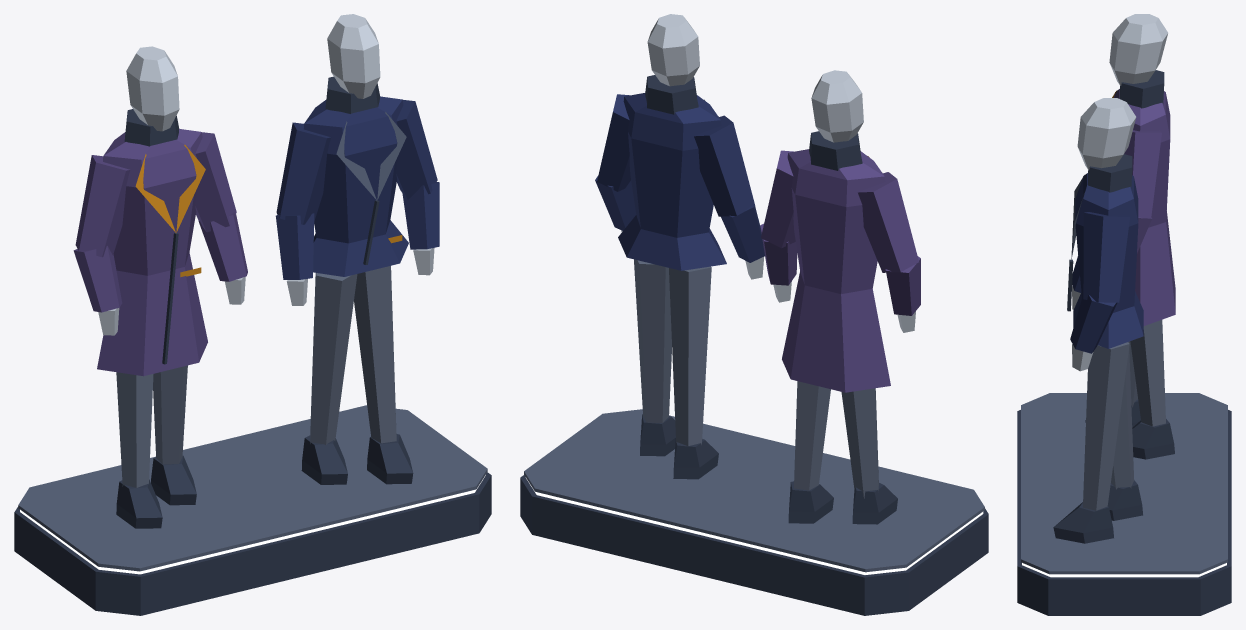
Rendered from mall_mannequin.glb.
3 renders of one model, left to right at view 1: azimuth 30°, elevation 25°; view 2: azimuth 150°, elevation 25°; view 3: azimuth 270°, elevation 25°, orthographic. The views are drawn at different scales.
Visible parts, largest first — view 1: lapel.002, ankle_boot, coat, coat.001, trouser, hand, light_reveal, lapel; view 2: lapel.002, ankle_boot, coat, coat.001, trouser, hand, light_reveal; view 3: lapel.002, ankle_boot, coat.001, trouser, coat, hand, light_reveal.
Part boxes in pixels (x1,y1,x2,y2): lapel.002: (18,112,487,571); ankle_boot: (14,76,491,615); coat: (73,129,247,376); coat.001: (275,96,439,279); trouser: (116,266,396,487); hand: (98,14,434,335); light_reveal: (20,475,485,574); lapel: (135,144,402,277); lapel.002: (524,99,984,572); ankle_boot: (520,75,988,615); coat: (760,149,920,392); coat.001: (595,93,764,270); trouser: (634,259,878,498); hand: (621,14,915,332); light_reveal: (525,477,983,574); lapel.002: (1021,175,1227,574); ankle_boot: (1017,70,1231,615); coat.001: (1070,173,1143,353); trouser: (1083,320,1165,510); coat: (1113,89,1175,325); hand: (1072,14,1167,371); light_reveal: (1022,563,1226,577).
Bounding box in the file's own units: 1.8 × 2.15 × 0.9.
